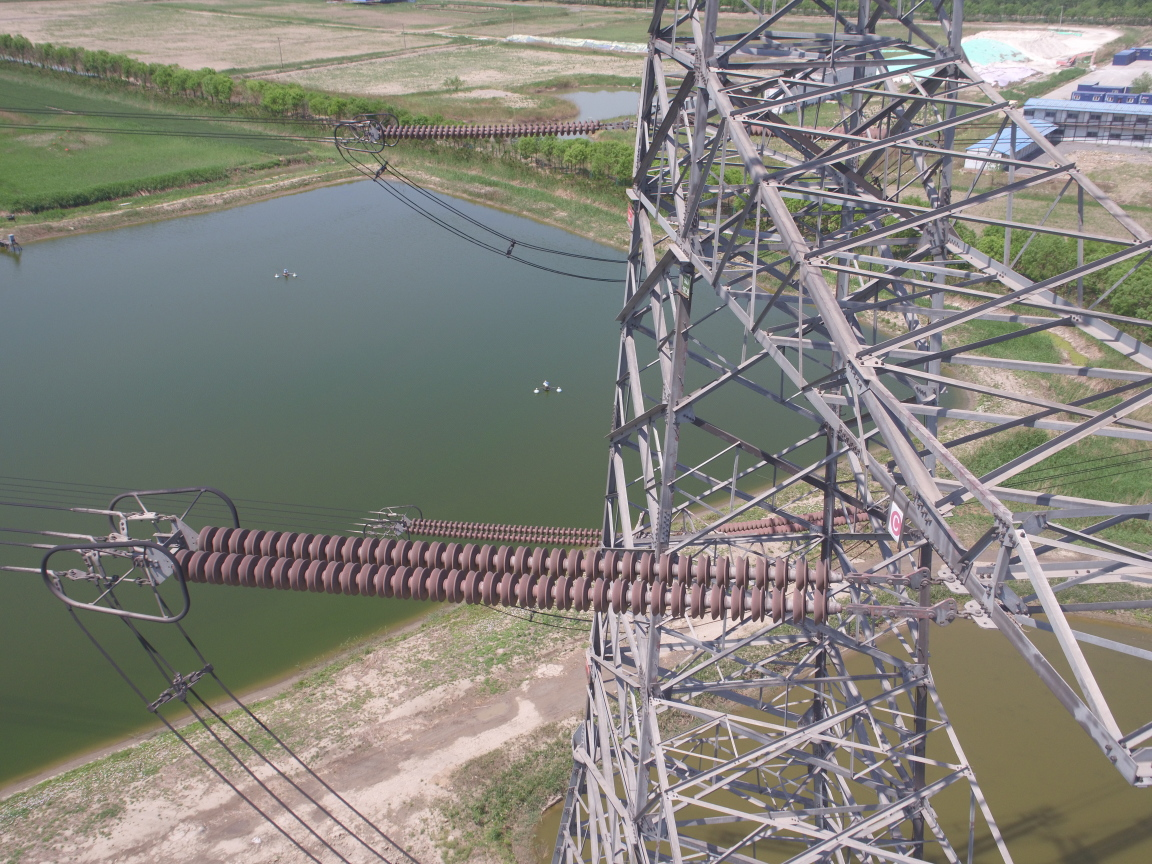insulator: (158, 521, 903, 625), (397, 517, 603, 547), (372, 118, 615, 139)
